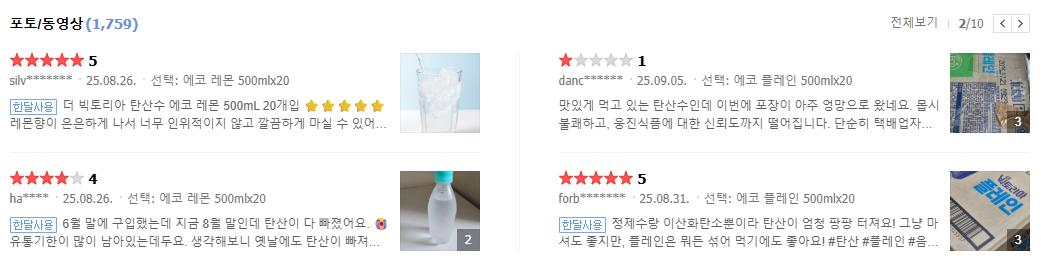button: (992, 14, 1027, 31)
